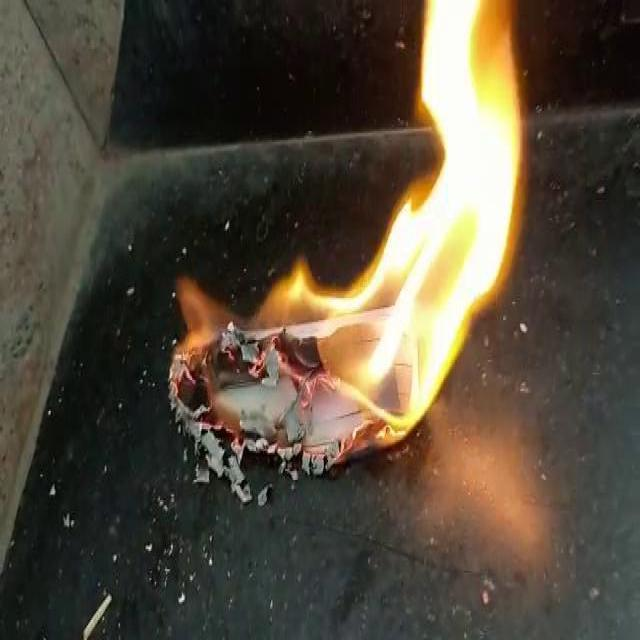Fire: (282, 4, 544, 430)
